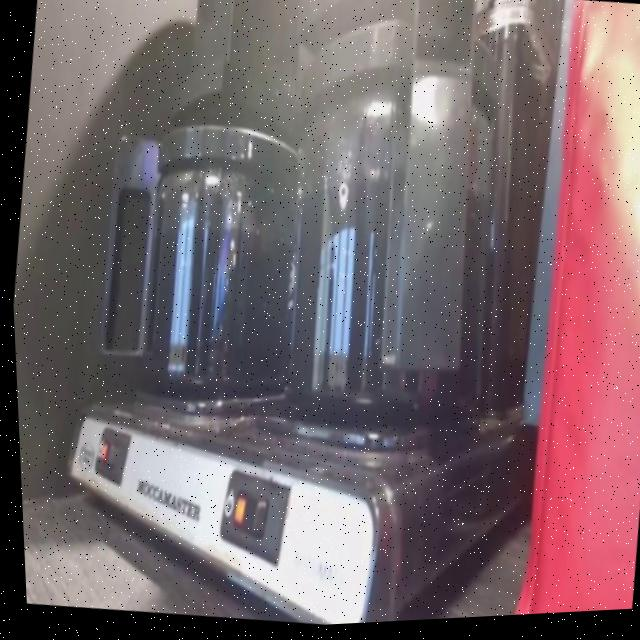coffee: (270, 131, 504, 432), (132, 183, 300, 393)
